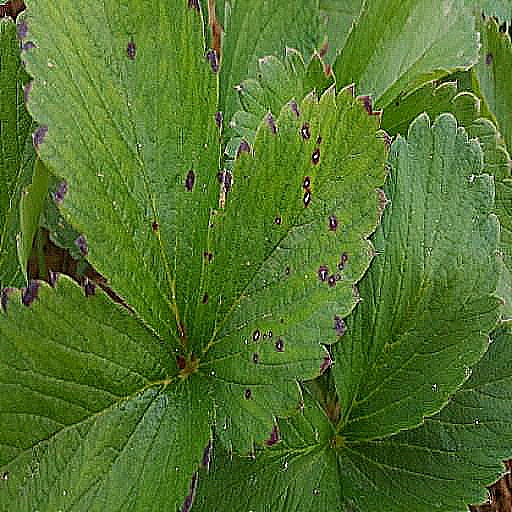Leaf Spot: (192, 82, 395, 457), (13, 0, 223, 362)
